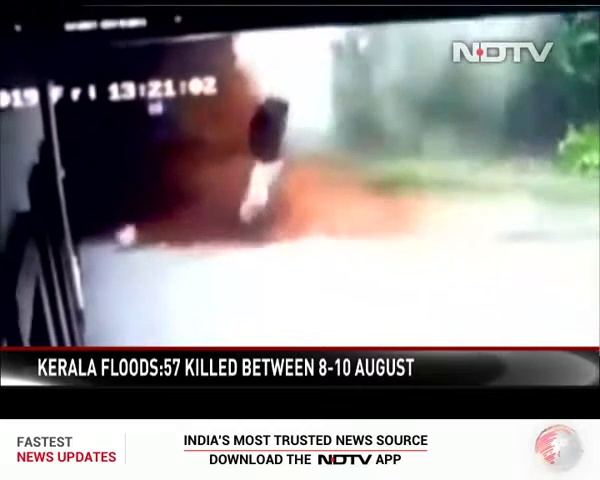person: (240, 103, 284, 224)
